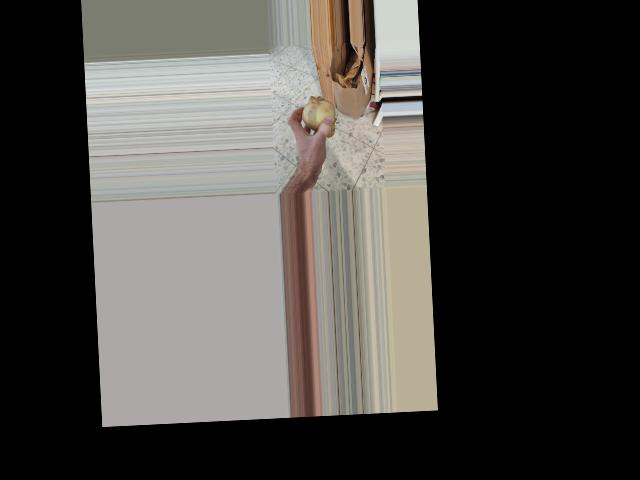onion: (298, 93, 338, 139)
